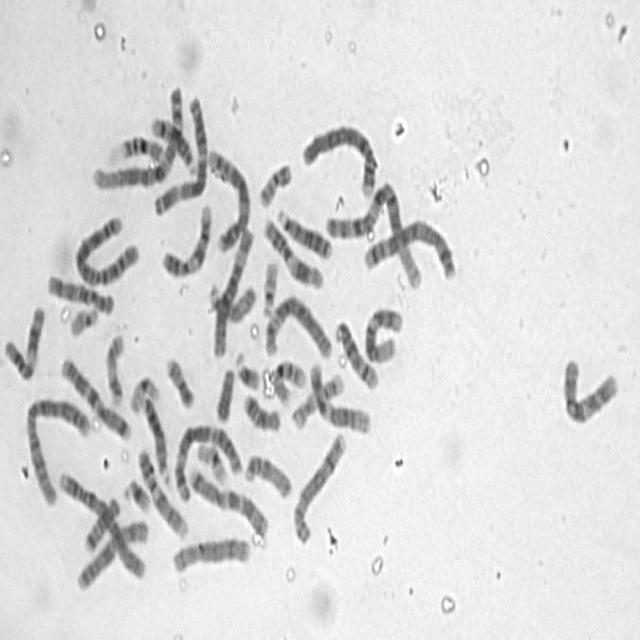A1: (322, 172, 424, 291), (89, 78, 185, 193)
A2: (23, 390, 92, 508), (72, 210, 142, 288)
A3: (150, 85, 211, 217), (172, 417, 242, 502)
B4: (54, 462, 149, 582), (300, 117, 380, 199)
B5: (360, 214, 458, 283), (203, 142, 253, 254)
C10: (558, 349, 622, 428), (44, 268, 116, 317)
C11: (259, 210, 325, 292), (1, 300, 46, 384)
C12: (308, 356, 372, 435), (361, 301, 405, 364)
C6: (209, 219, 256, 360), (261, 288, 334, 361)
C7: (58, 351, 134, 443), (185, 462, 271, 537)
C8: (290, 425, 349, 547), (169, 530, 252, 576)
C9: (135, 444, 190, 540), (159, 197, 214, 279)
D13: (274, 202, 336, 262), (139, 390, 172, 487)
D14: (331, 315, 380, 391), (148, 110, 198, 176)
D15: (242, 447, 294, 501), (205, 276, 259, 324)
E16: (269, 352, 308, 407), (117, 128, 167, 165)
E17: (288, 366, 346, 432), (102, 326, 127, 409)
E18: (80, 490, 121, 554), (240, 387, 283, 432)
F19: (194, 436, 232, 486), (126, 369, 162, 416)
F20: (256, 156, 294, 210), (162, 350, 196, 410)
G21: (120, 472, 153, 515), (232, 346, 262, 392)
G22: (259, 252, 280, 320), (66, 300, 101, 338)
X: (74, 514, 150, 593)
Y: (212, 361, 237, 424)
